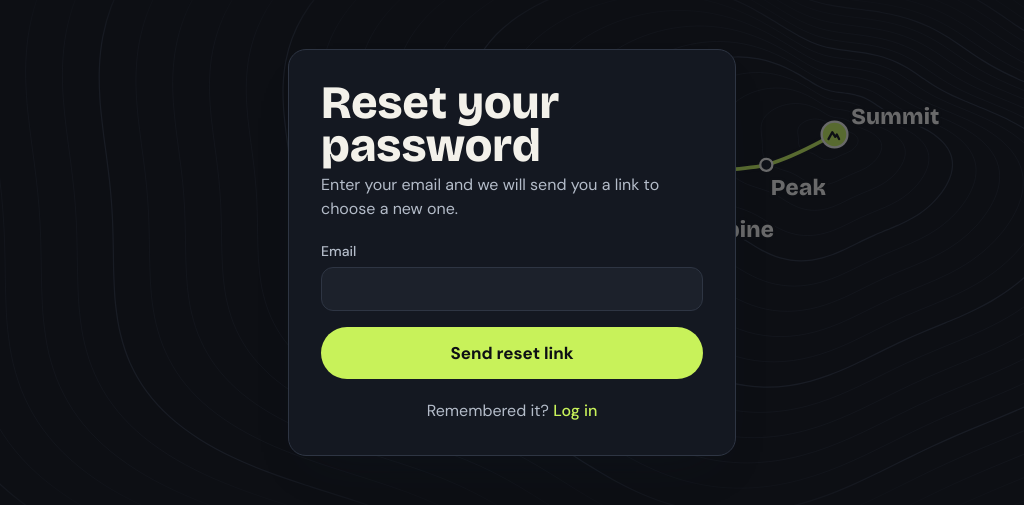
Test: AuthPage: log in face › checks the email before asking the server
Click the button "Send reset link". click: (512, 353)
box: [321,327,703,379]
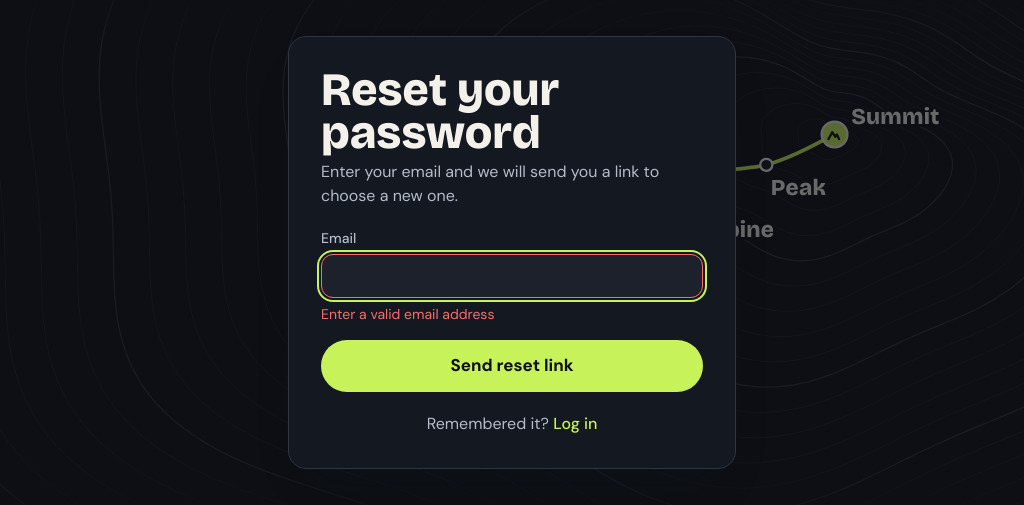
Expected: the text "Enter a valid email address" is shown, [321,305,494,323]
